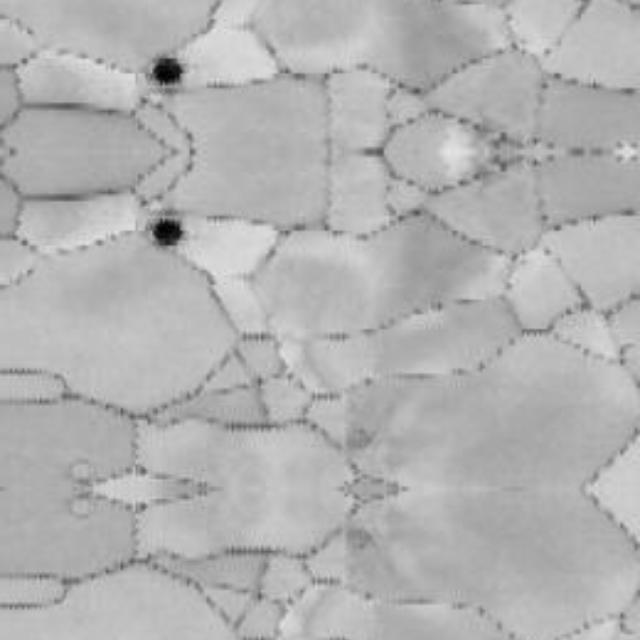good_void: (148, 215, 187, 250), (148, 52, 187, 87)
